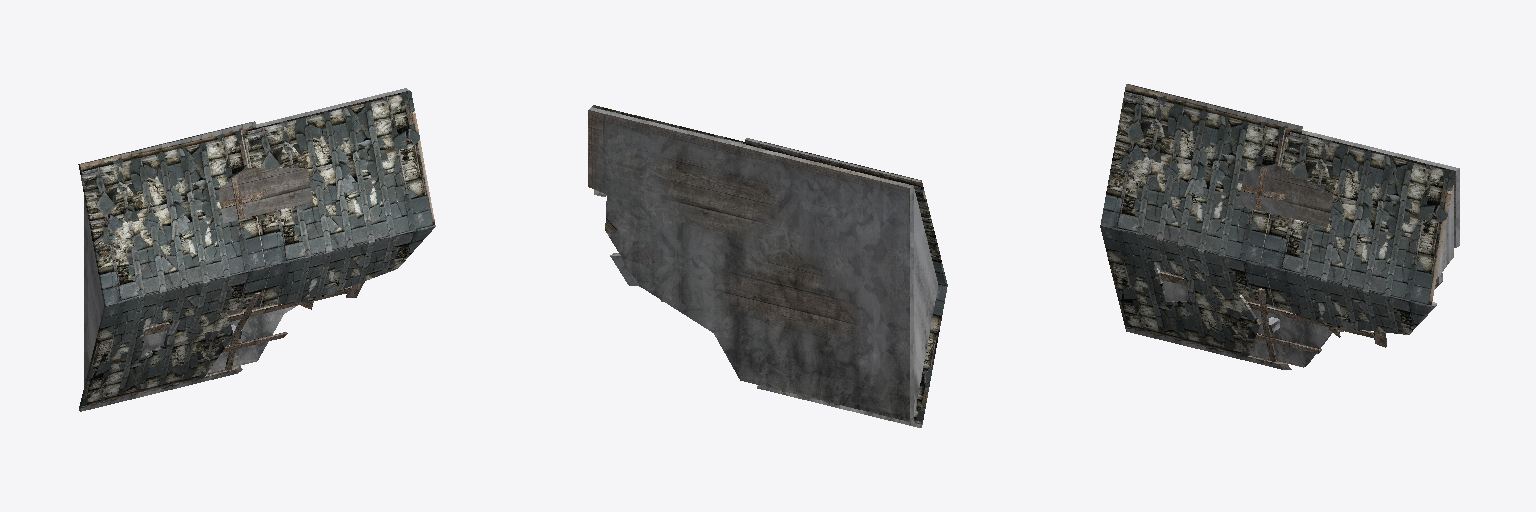
The picture shows the model from 3 angles: view 1: azimuth 30°, elevation 25°; view 2: azimuth 150°, elevation 25°; view 3: azimuth 330°, elevation 25°; orthographic projection.
Parts seen in each view (by area): view 1: polySurface153; view 2: polySurface153; view 3: polySurface153.
Boxes of the visible parts, <box> form: polySurface153: <box>78,88,435,411</box>; polySurface153: <box>588,105,947,427</box>; polySurface153: <box>1100,84,1459,369</box>.
Size of the model in its own units: 7.72 by 5.54 by 1.21.
Materials: 6 (1 with a texture image).